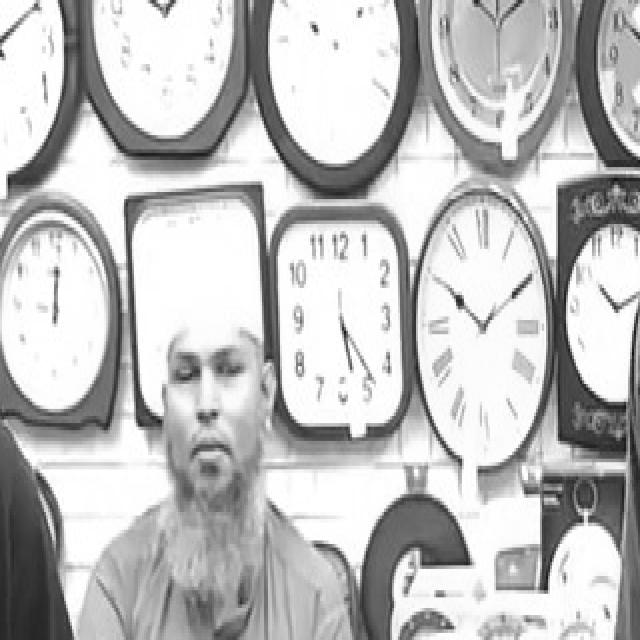wallclock: (411, 176, 559, 468), (122, 179, 274, 434), (266, 193, 415, 445), (250, 0, 420, 196), (0, 188, 120, 430), (76, 0, 248, 160), (418, 0, 574, 167), (552, 167, 640, 448), (358, 483, 470, 640), (0, 0, 80, 203), (572, 0, 640, 181), (549, 508, 622, 619), (306, 533, 364, 640), (27, 455, 64, 565), (506, 611, 594, 640)
